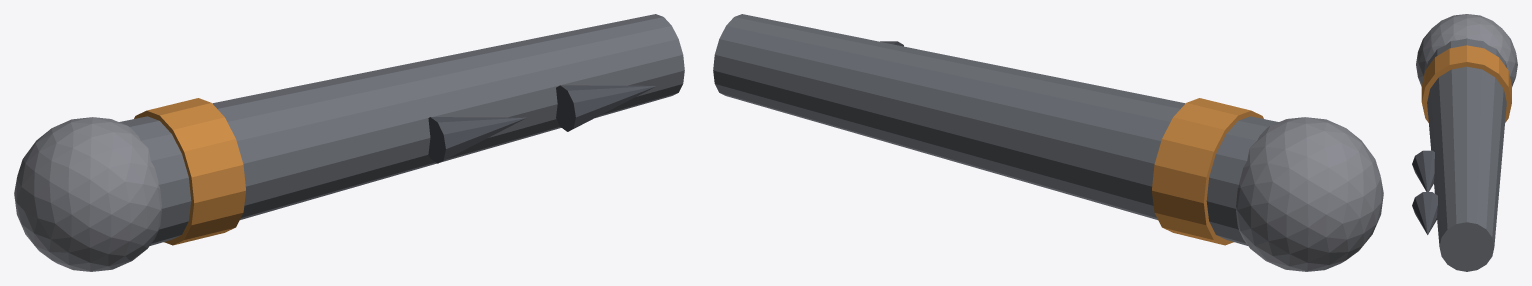
The model's file is spider_femur.glb.
The picture shows the model from 3 angles, left to right: view 1: azimuth 30°, elevation 25°; view 2: azimuth 150°, elevation 25°; view 3: azimuth 270°, elevation 25°; orthographic projection. The views are drawn at different scales.
Parts seen in each view (by area): view 1: geometry_0; view 2: geometry_0; view 3: geometry_0.
Part boxes in pixels (x1,y1,x2,y2): geometry_0: (14, 14, 684, 271); geometry_0: (713, 14, 1383, 271); geometry_0: (1412, 14, 1517, 271).
Size of the model in its own units: 0.123 by 0.026 by 0.027.
